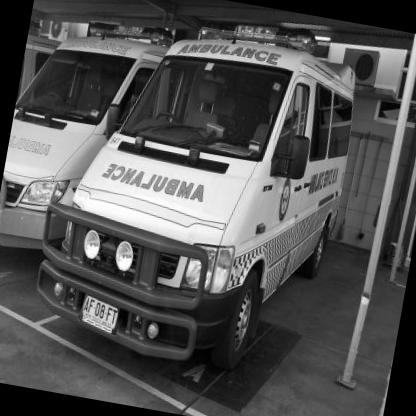ambulance: (26, 10, 367, 403), (1, 13, 155, 280)
